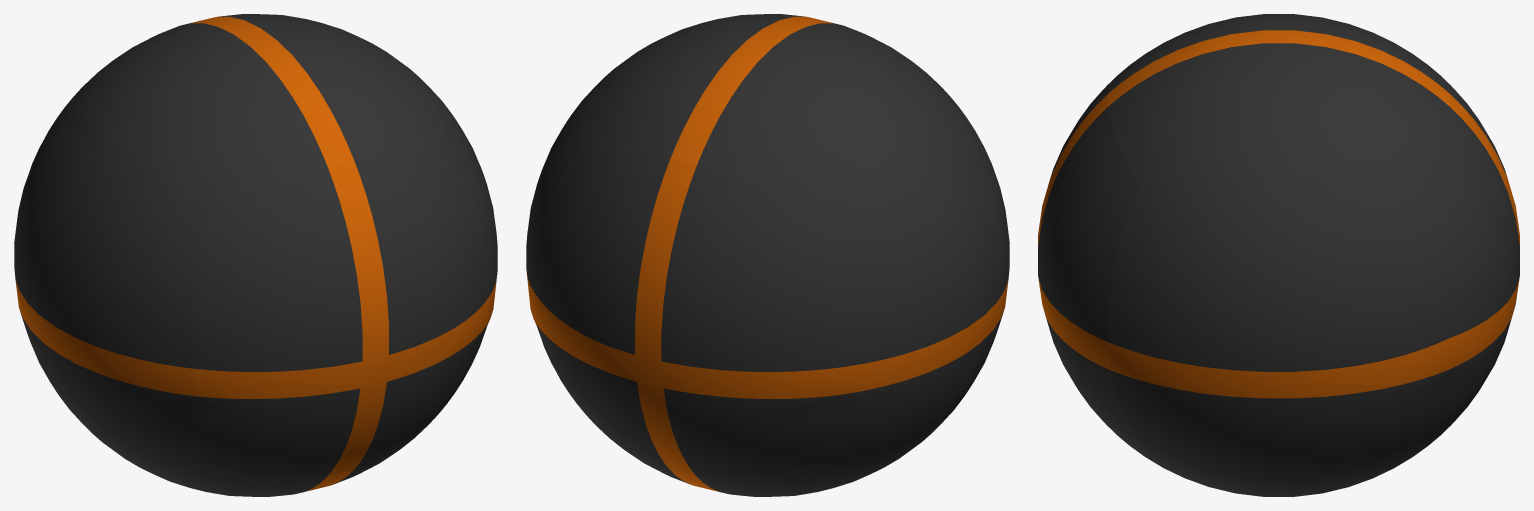
The model's file is _oule.fbx.
The picture shows the model from 3 angles, left to right: view 1: azimuth 30°, elevation 25°; view 2: azimuth 150°, elevation 25°; view 3: azimuth 270°, elevation 25°; orthographic projection.
Parts seen in each view (by area): view 1: Box001; view 2: Box001; view 3: Box001.
Part boxes in pixels (<box>): Box001: <box>14,14,497,496</box>; Box001: <box>526,14,1009,496</box>; Box001: <box>1038,14,1519,496</box>.
Bounding box in the file's own units: 49.78 × 49.78 × 49.78.
